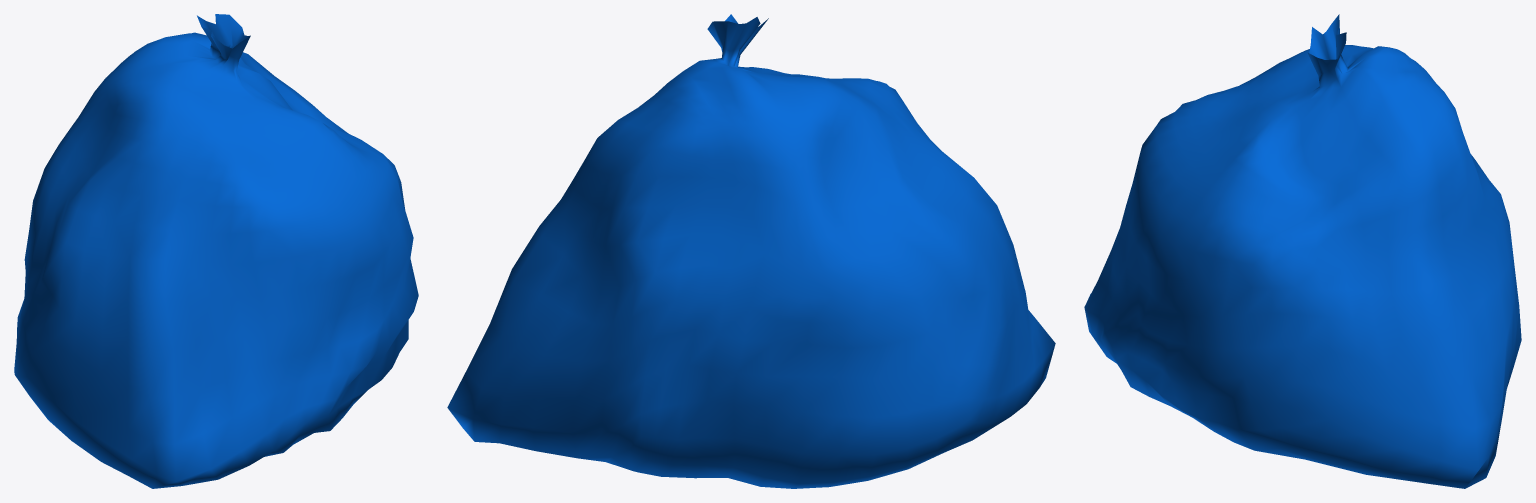
File: sacchetto_blu_no_light.fbx
3 renders of one model, left to right at view 1: azimuth 30°, elevation 25°; view 2: azimuth 150°, elevation 25°; view 3: azimuth 270°, elevation 25°, orthographic. The views are drawn at different scales.
Parts seen in each view (by area): view 1: sacchett_ciotto; view 2: sacchett_ciotto; view 3: sacchett_ciotto.
Part boxes in pixels (x1,y1,x2,y2): sacchett_ciotto: (14,14,418,488); sacchett_ciotto: (447,14,1055,488); sacchett_ciotto: (1084,14,1521,488).
Size of the model in its own units: 36.65 by 33.91 by 34.66.
